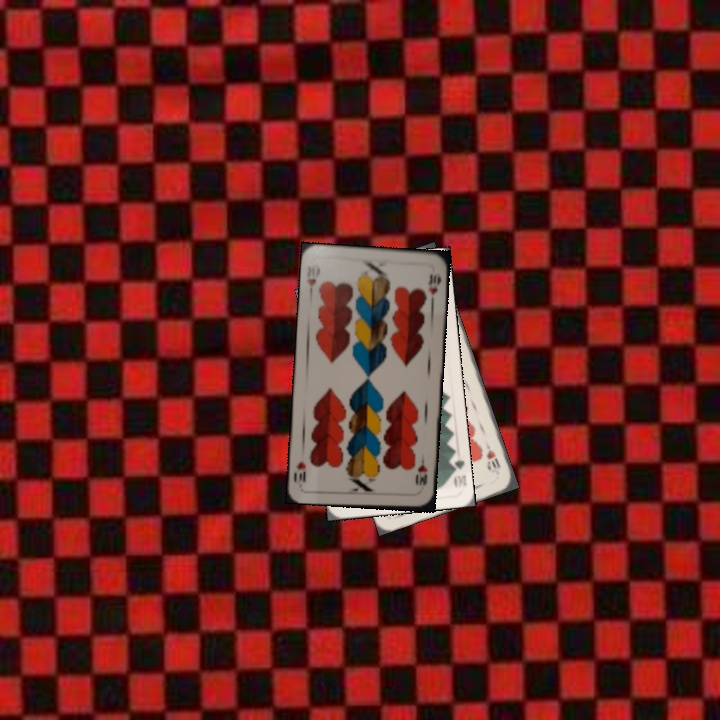G10: (446, 454, 469, 490)
H10: (303, 261, 323, 299), (481, 438, 503, 471), (411, 454, 430, 488)
